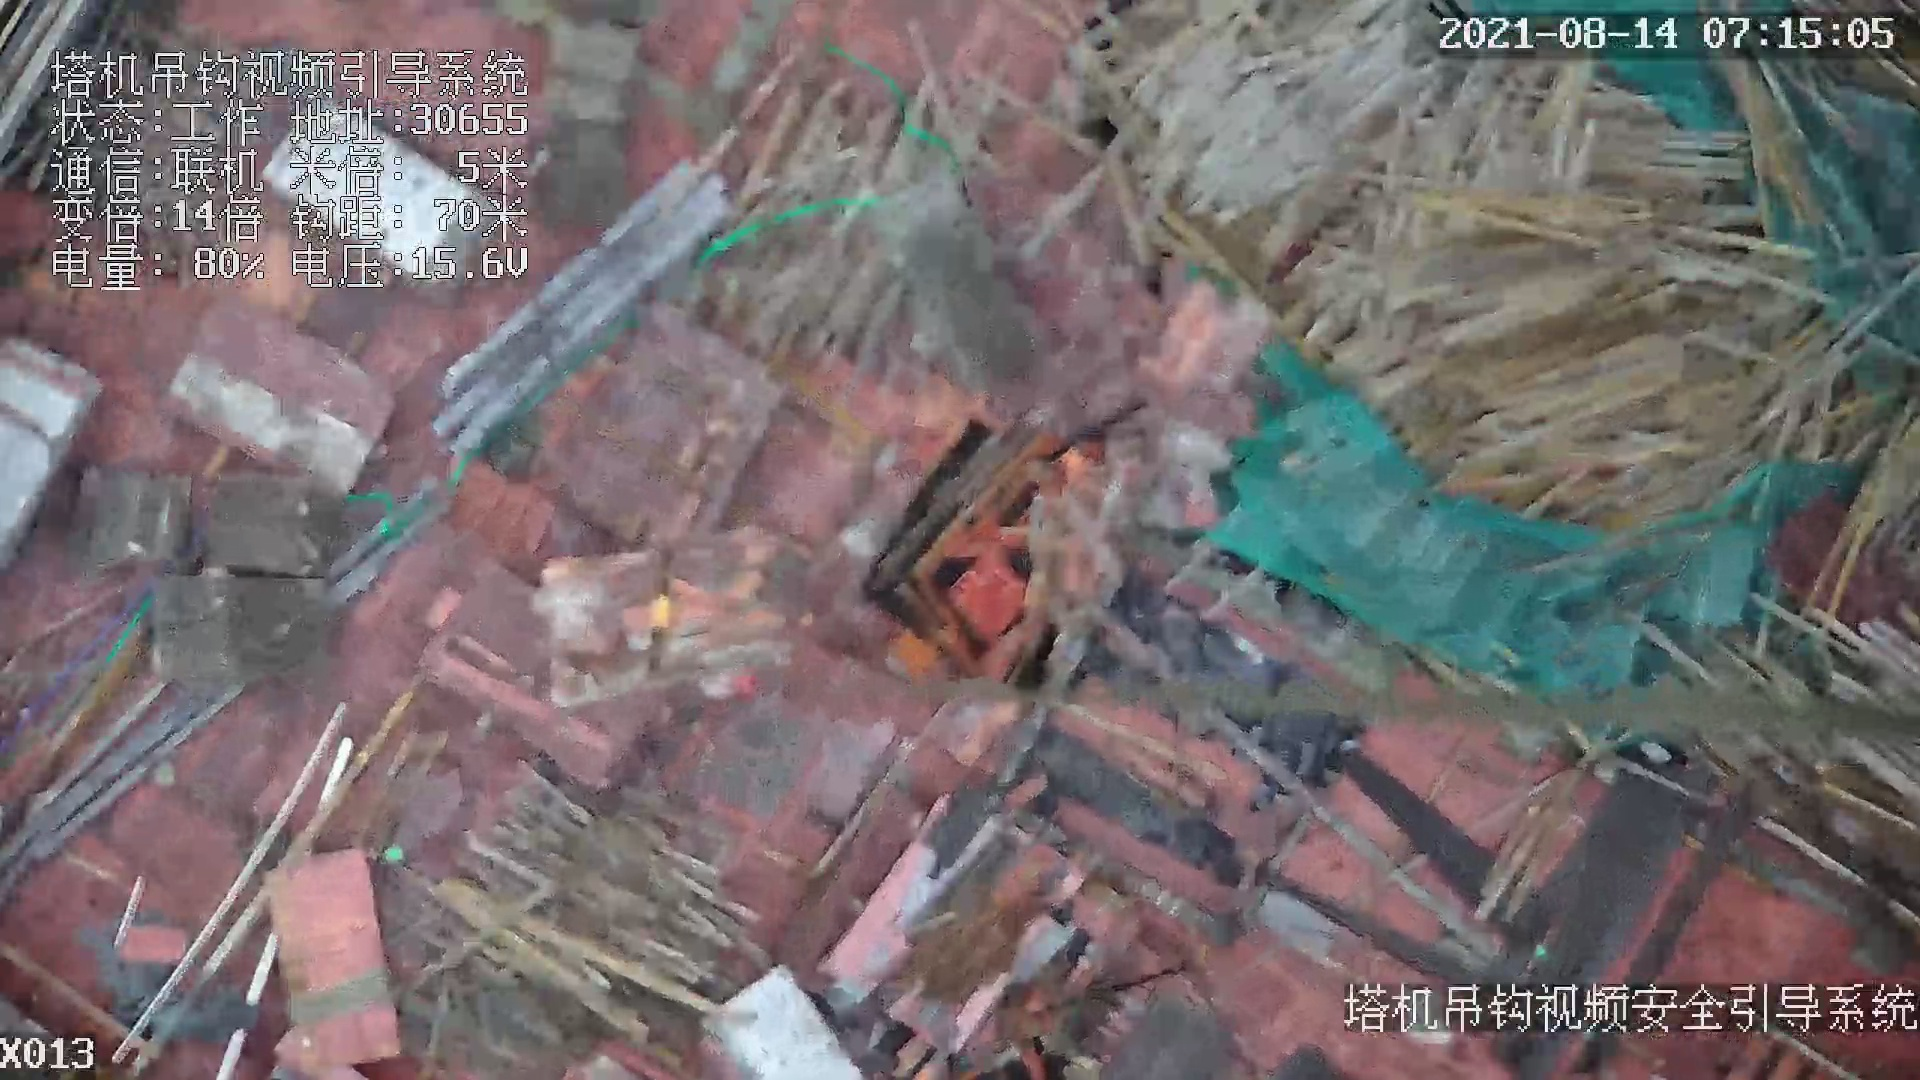hook: (651, 559, 686, 682)
